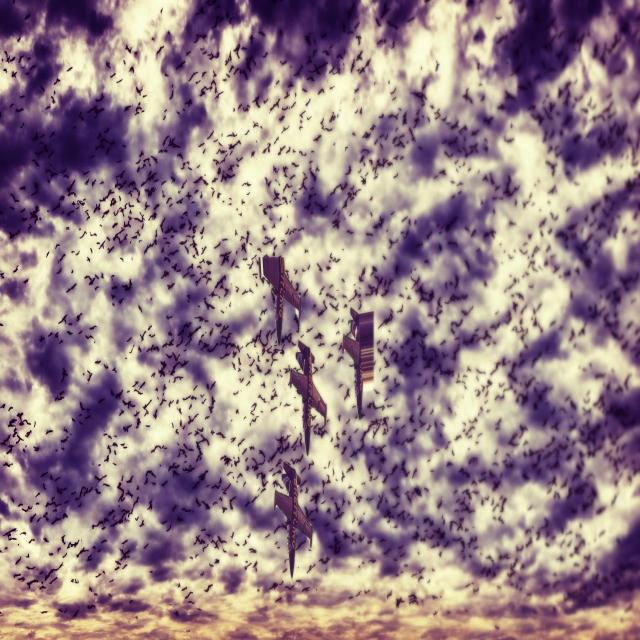airplane: (273, 460, 313, 578), (287, 340, 327, 456), (340, 306, 376, 419), (258, 253, 301, 345)
